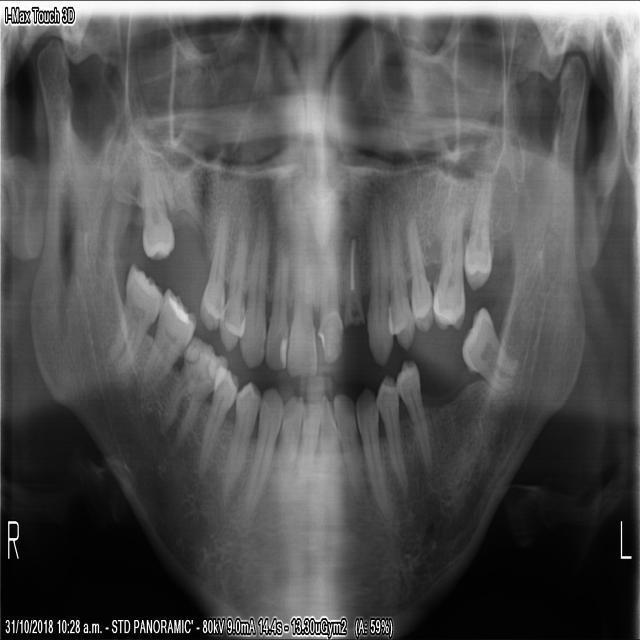LCD: (354, 383, 393, 519)
LCU: (364, 200, 392, 370)
LID: (331, 391, 369, 503), (315, 395, 339, 512)
LIU: (314, 233, 344, 364), (340, 233, 364, 329)
LMD: (458, 304, 520, 397)
LMU: (433, 199, 466, 333), (462, 167, 496, 292)
LPMD: (394, 357, 436, 474), (376, 370, 410, 502)
LPMU: (404, 209, 433, 334), (389, 208, 414, 350)
RCD: (243, 382, 281, 513)
RCU: (236, 201, 269, 370)
RID: (294, 395, 322, 505), (274, 391, 303, 497)
RIU: (285, 239, 316, 378), (263, 228, 289, 372)
RMD: (101, 256, 163, 384), (156, 332, 215, 452), (137, 287, 195, 399)
RMU: (138, 143, 174, 259)
RPMD: (195, 346, 238, 477), (216, 203, 248, 354), (220, 378, 258, 494)
RPMU: (196, 202, 230, 330)
